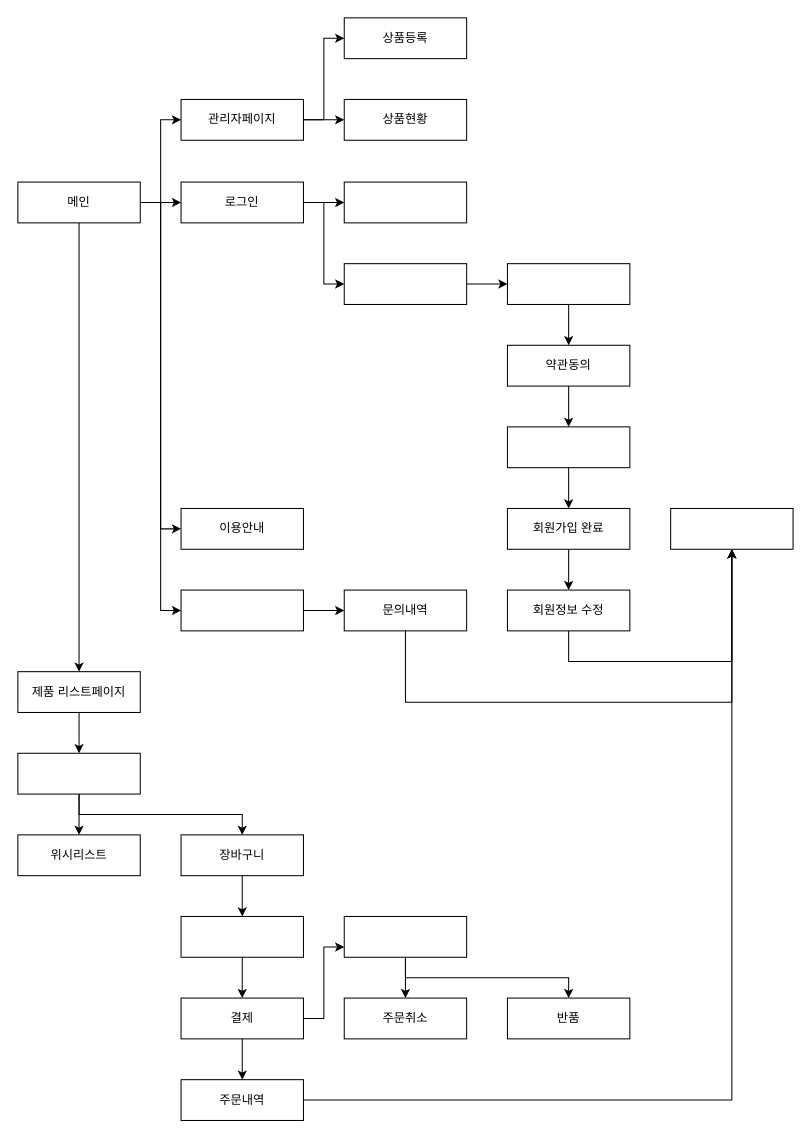
This 811x1138 diagram has some shape labels left out. The shapes that lost their labels are listed below. From the top down, each one's centre as x and y in pixels, then its label:
(405,202): 아이디/비밀번호찾기
(405,283): 회원가입
(568,283): 회원가입여부확인
(568,447): 회원정보 입력
(731,528): 마이페이지
(241,610): 고객센터
(78,773): 제품 상세페이지
(241,936): 주문/배송지 정보
(405,936): 주문/배송상태
